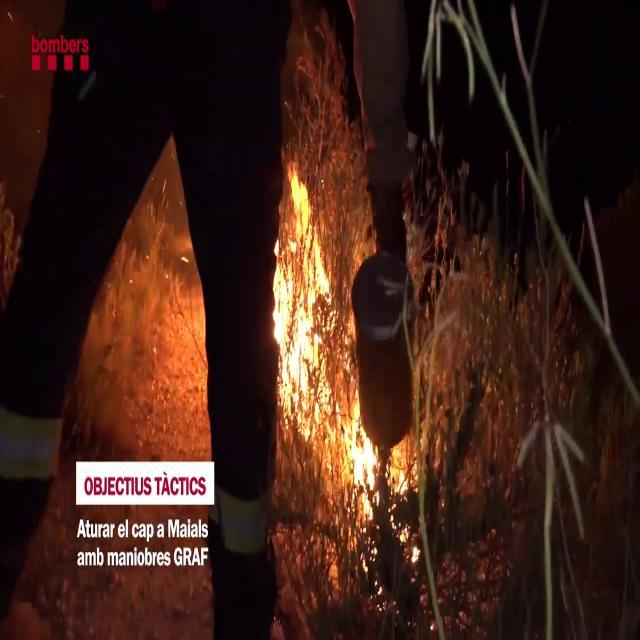Fire: (266, 154, 376, 530)
